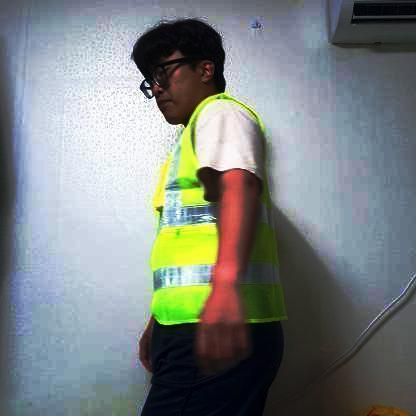no-helmet: (124, 22, 233, 86)
vest: (143, 94, 290, 327)
